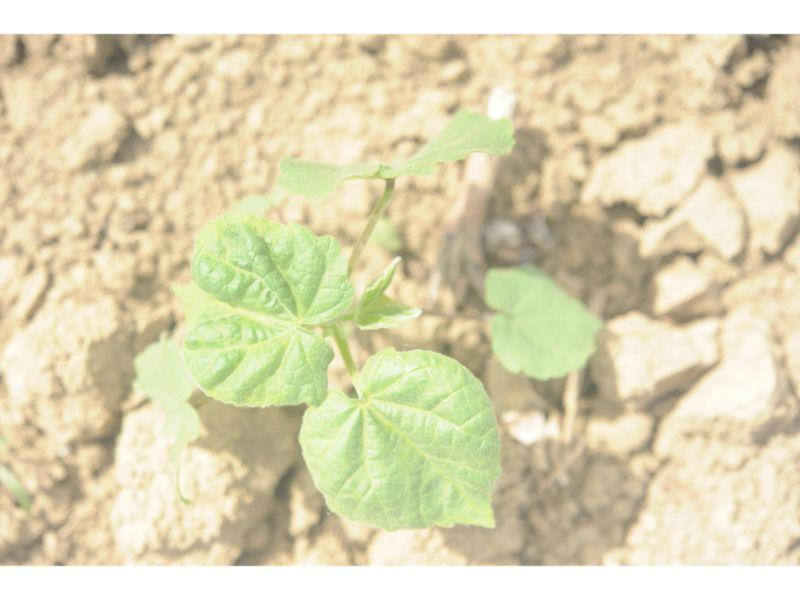velvet: (175, 105, 604, 533)
